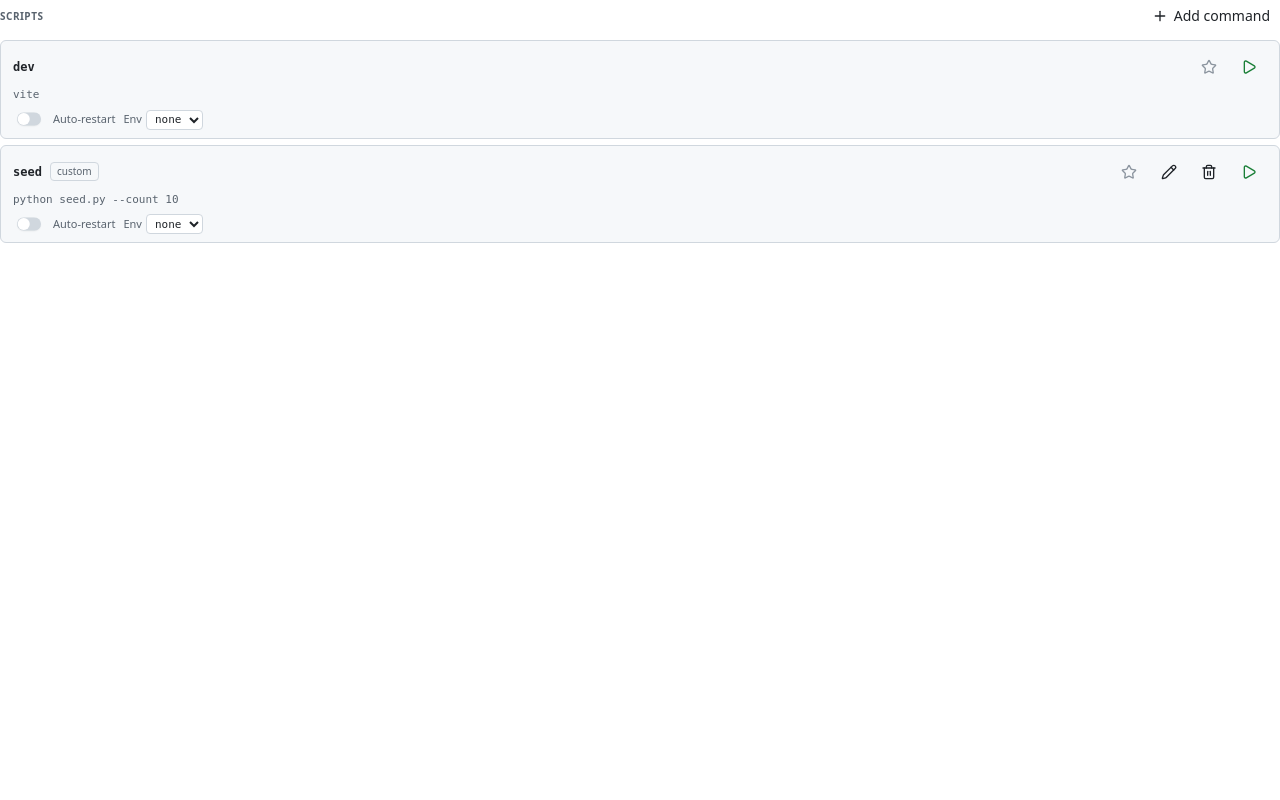
it: ScriptList › commands › opens the editor with the command filled in
Click the button named "Edit seed". click: (1169, 172)
box: [1151, 154, 1187, 190]
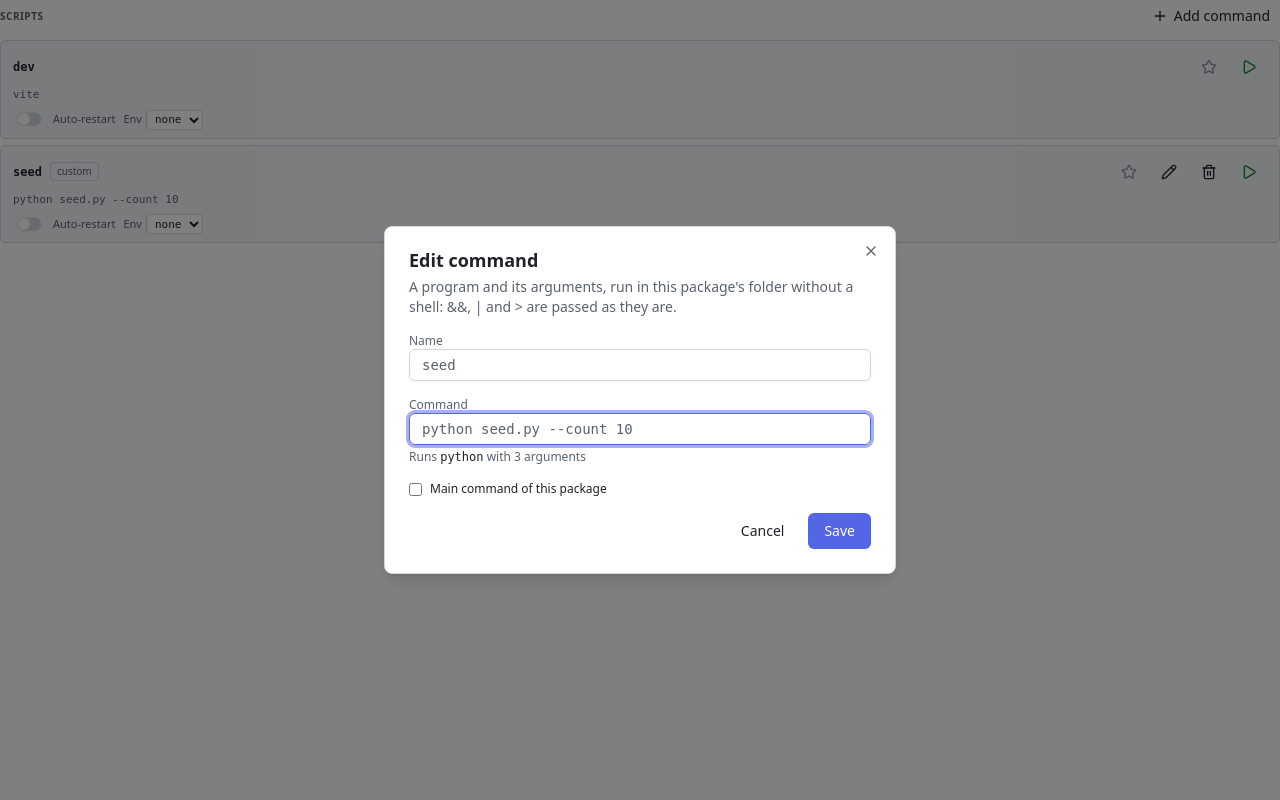
Now the heading "Edit command" is shown, box [409, 248, 538, 272]
Now the field labelled "Command" holds "python seed.py --count 10", box [409, 413, 871, 445]
